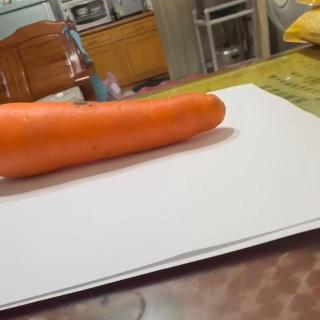carrot: (0, 91, 226, 179)
